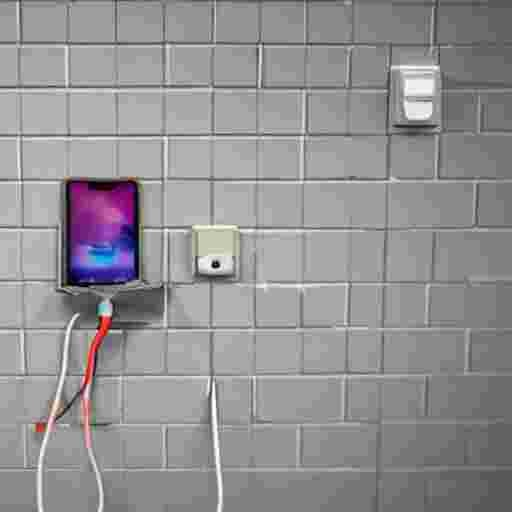power outlet: (390, 65, 440, 126), (192, 225, 239, 279)
